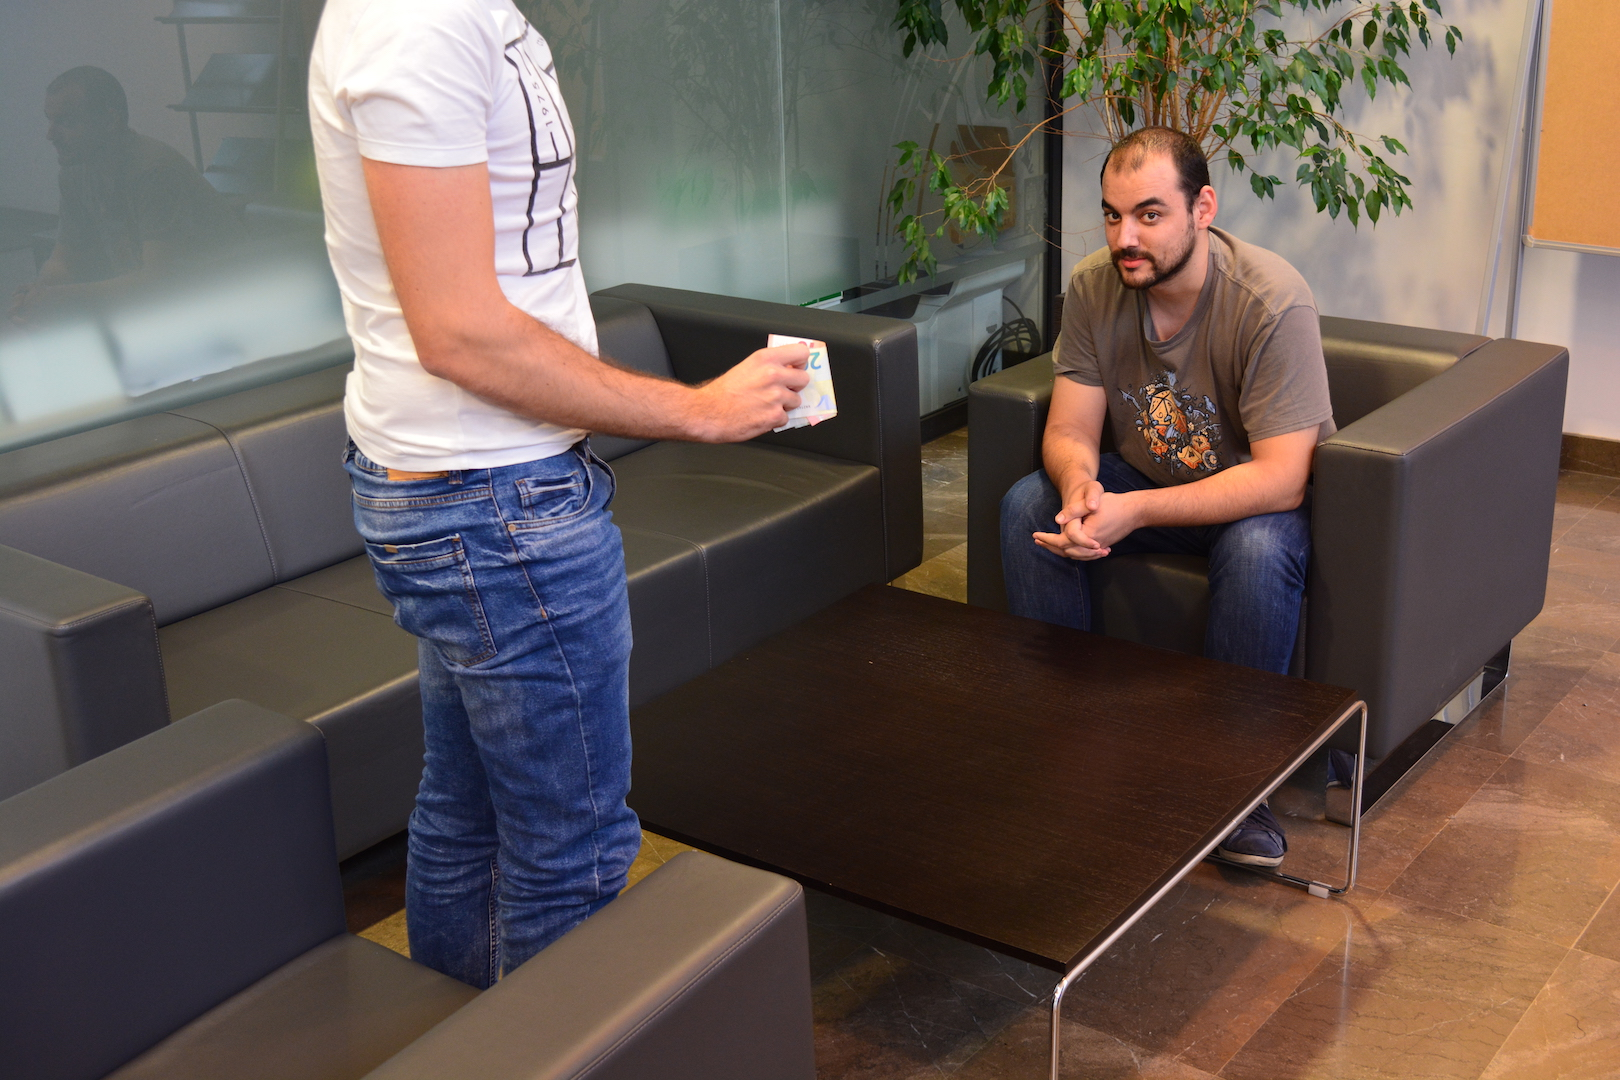billete: (765, 331, 837, 433)
